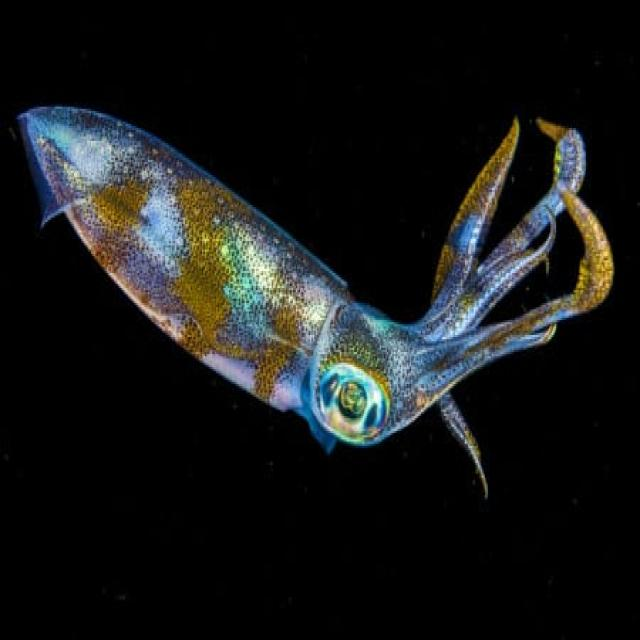SQUID: (4, 64, 640, 501)
